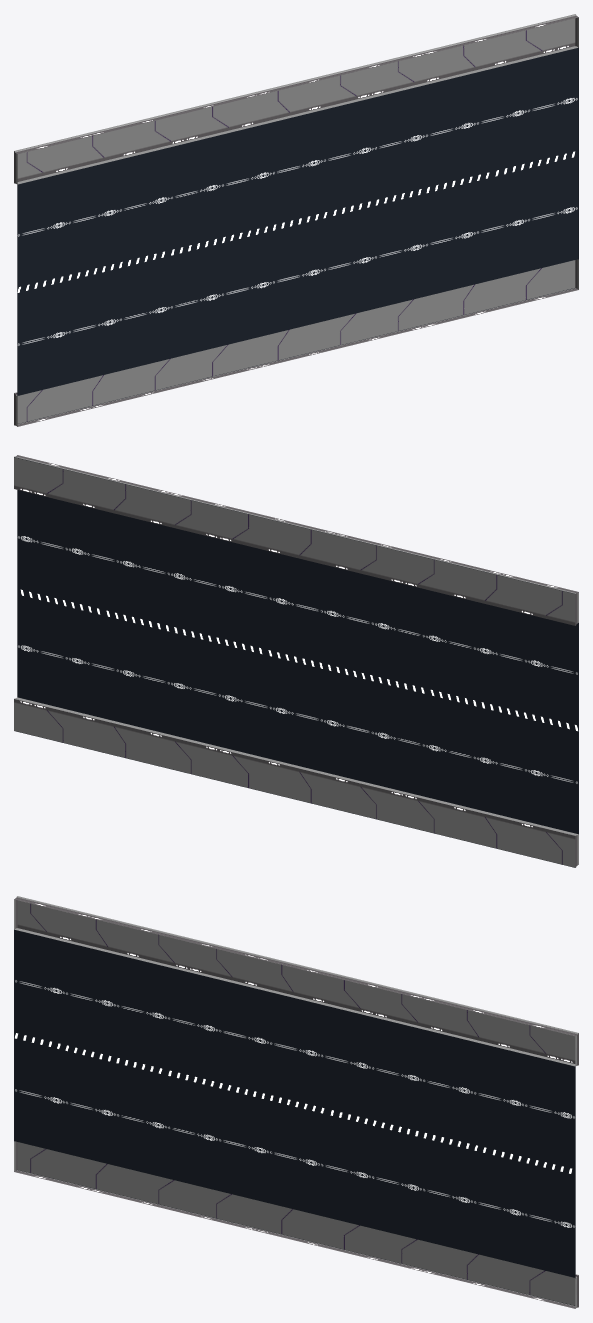
The model's file is SM_L_Road3.fbx.
3 renders of one model, top to bottom at view 1: azimuth 30°, elevation 25°; view 2: azimuth 150°, elevation 25°; view 3: azimuth 330°, elevation 25°, orthographic.
Visible parts, largest first — view 1: SM_L_Road3; view 2: SM_L_Road3; view 3: SM_L_Road3.
Boxes of the visible parts, <box> form: SM_L_Road3: <box>14,14,578,426</box>; SM_L_Road3: <box>14,455,578,867</box>; SM_L_Road3: <box>14,896,578,1308</box>.
Bounding box in the file's own units: 10553 × 4923 × 119.
